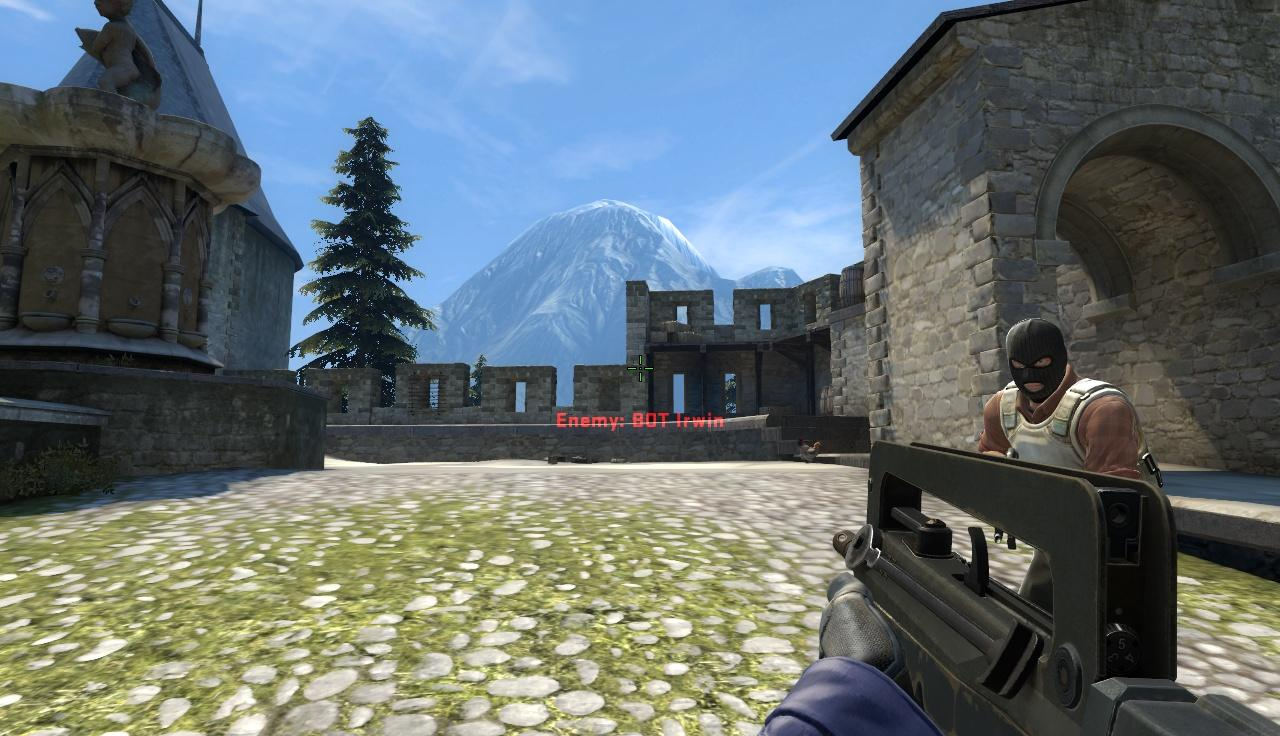rifle: (828, 442, 1275, 736)
tt: (993, 315, 1152, 473)
tthead: (1007, 320, 1067, 398)
